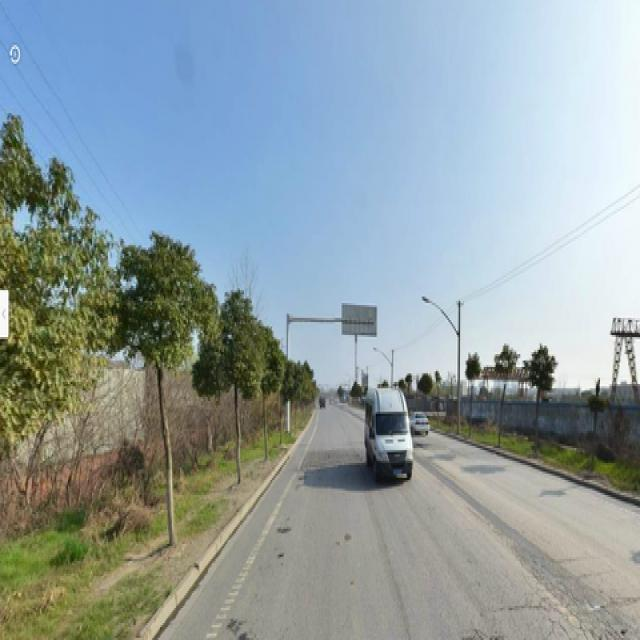cinn: (119, 216, 197, 531), (211, 296, 256, 461)
